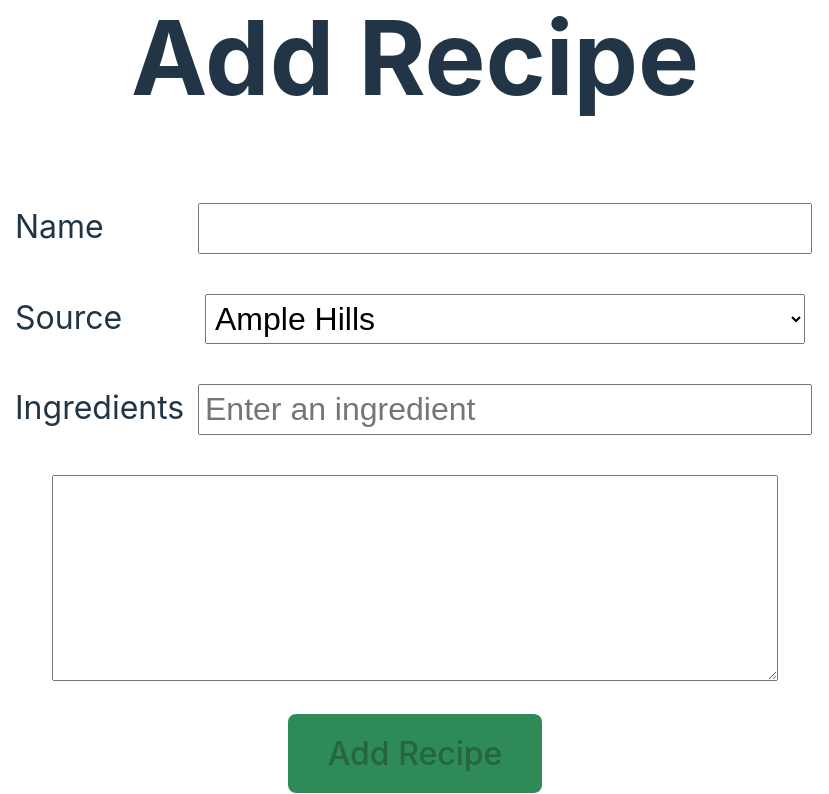
Add Recipe page › disables the submit button when I add an invalid ingredient
The width and height of the screenshot is (829, 794).
Type "Vanilla" into the field labelled "Name" at coordinates (505, 228), box [198,203,812,254]
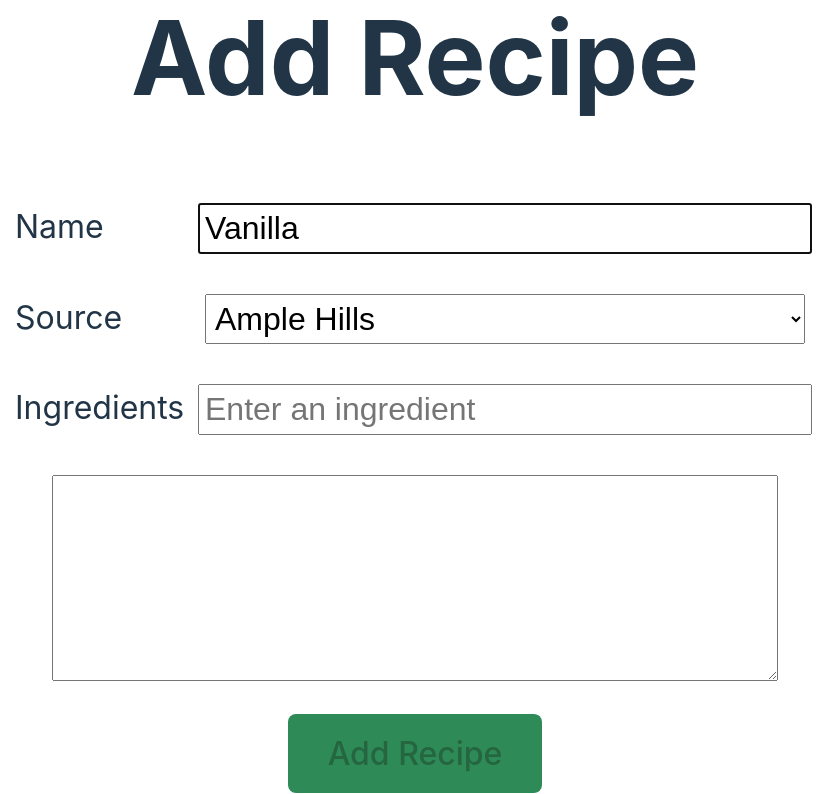
Type "1" into the field labelled "Ingredients" at coordinates (505, 409), box [198,384,812,435]
Then press Enter
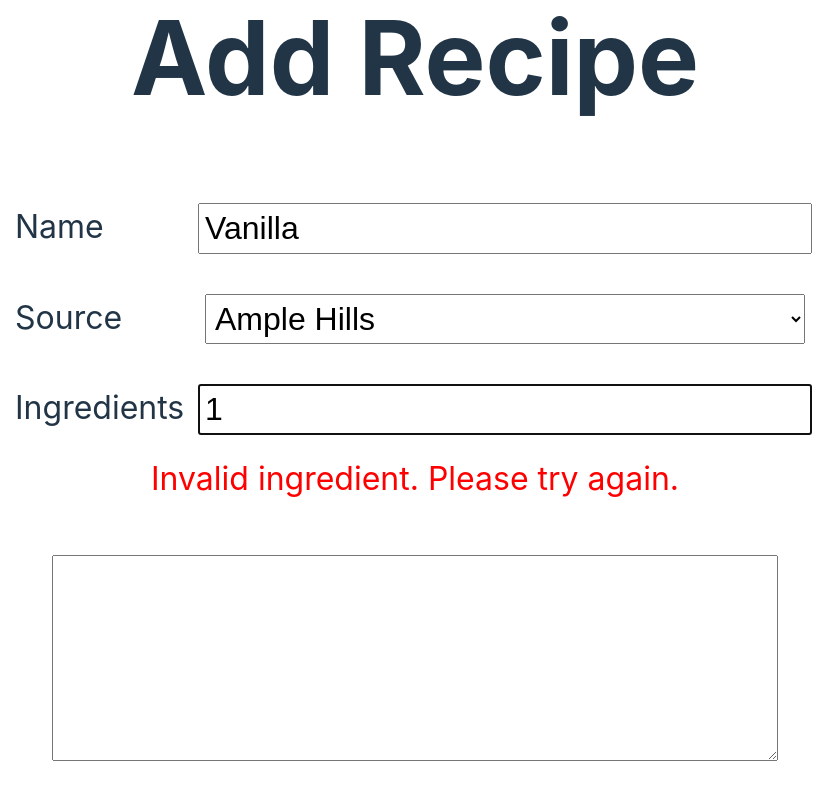
Now the text "Invalid ingredient. Please try again." is shown, box [151,459,679,498]
